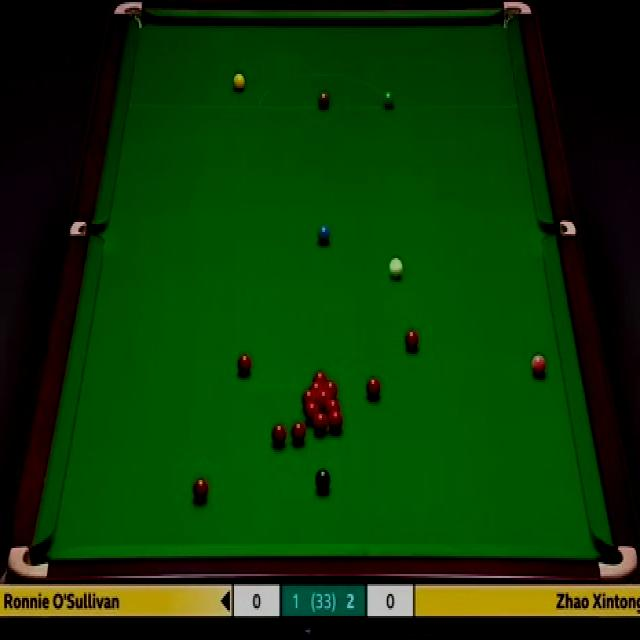pocket: (4, 542, 50, 580), (595, 542, 637, 583), (113, 0, 146, 37), (501, 0, 534, 29), (540, 218, 578, 237), (69, 220, 103, 235)
